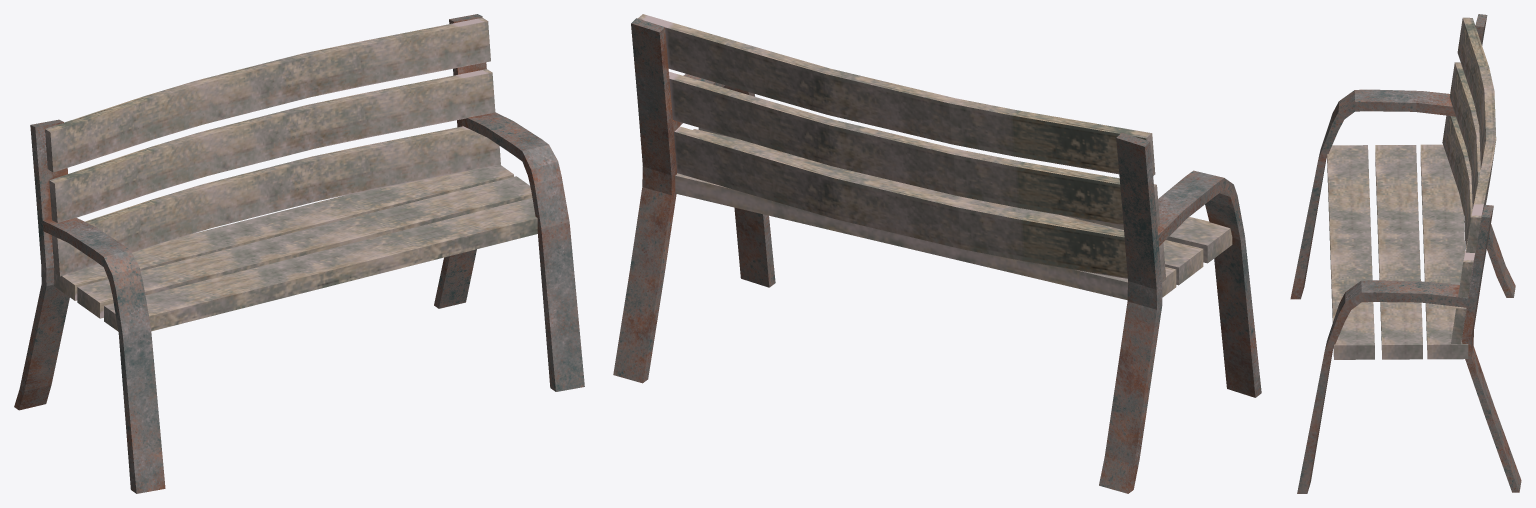
File: bench1.glb
The picture shows the model from 3 angles, left to right: view 1: azimuth 30°, elevation 25°; view 2: azimuth 150°, elevation 25°; view 3: azimuth 270°, elevation 25°; orthographic projection. The views are drawn at different scales.
Visible parts, largest first — view 1: SM_Bench01; view 2: SM_Bench01; view 3: SM_Bench01.
Boxes of the visible parts, bbox=[...] form: SM_Bench01: bbox=[14, 14, 584, 493]; SM_Bench01: bbox=[613, 14, 1261, 493]; SM_Bench01: bbox=[1290, 14, 1521, 493].
Size of the model in its own units: 1.54 by 0.9697 by 0.7359.
1 material, 1 textured.
